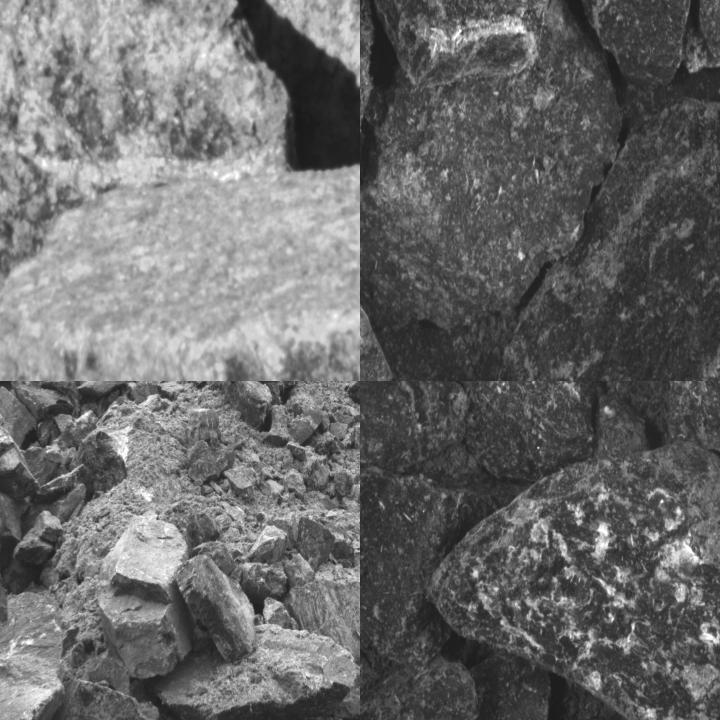stone: (360, 0, 627, 335), (0, 153, 359, 380), (430, 439, 719, 719), (0, 0, 283, 247), (486, 85, 719, 380), (360, 474, 504, 664), (159, 628, 359, 719), (435, 381, 596, 489), (100, 515, 194, 681), (534, 0, 692, 86), (360, 381, 466, 471), (176, 554, 258, 659), (0, 592, 65, 719), (360, 658, 482, 719), (283, 577, 359, 662), (460, 656, 555, 719), (0, 415, 37, 497), (599, 394, 644, 456), (216, 381, 272, 430), (0, 383, 38, 450), (0, 481, 31, 560), (33, 463, 86, 503), (296, 518, 335, 572), (324, 509, 359, 568), (242, 562, 286, 603), (188, 444, 234, 482), (182, 410, 224, 450), (248, 526, 290, 564), (12, 529, 54, 566), (288, 410, 321, 445), (266, 404, 290, 447), (32, 511, 63, 542), (224, 468, 254, 498), (77, 381, 127, 399), (285, 557, 313, 583), (333, 468, 351, 499), (345, 381, 359, 407), (341, 498, 359, 516), (331, 422, 347, 440), (190, 381, 221, 390)
